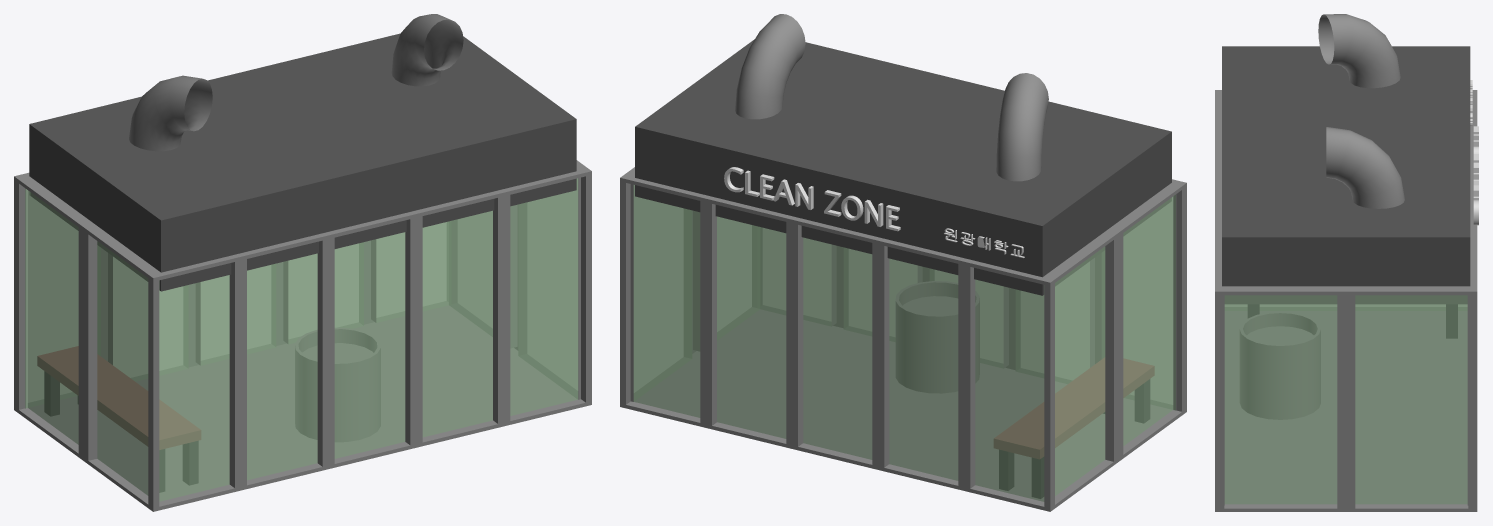
3 renders of one model, left to right at view 1: azimuth 30°, elevation 25°; view 2: azimuth 150°, elevation 25°; view 3: azimuth 270°, elevation 25°, orthographic. The views are drawn at different scales.
Parts seen in each view (by area): view 1: pCube3, pCube1, pCylinder1, pCube9, pTorus2, pTorus1; view 2: pCube3, pCube1, pCylinder1, pCube9, pTorus1, pTorus2, typeMesh2, typeMesh1; view 3: pCube3, pCube1, pCylinder1, pTorus1, pTorus2, typeMesh2, pCube9.
Boxes of the visible parts, x1=… form: pCube3: x1=14, y1=160, x2=591, y2=511; pCube1: x1=29, y1=33, x2=576, y2=291; pCylinder1: x1=295, y1=328, x2=380, y2=441; pCube9: x1=37, y1=346, x2=200, y2=492; pTorus2: x1=129, y1=75, x2=212, y2=151; pTorus1: x1=391, y1=14, x2=463, y2=86; pCube3: x1=620, y1=167, x2=1186, y2=511; pCube1: x1=635, y1=39, x2=1171, y2=295; pCylinder1: x1=896, y1=281, x2=979, y2=393; pCube9: x1=994, y1=357, x2=1154, y2=498; pTorus1: x1=735, y1=14, x2=805, y2=119; pTorus2: x1=996, y1=73, x2=1048, y2=181; typeMesh2: x1=724, y1=167, x2=900, y2=231; typeMesh1: x1=944, y1=228, x2=1024, y2=258; pCube3: x1=1215, y1=90, x2=1477, y2=511; pCube1: x1=1222, y1=46, x2=1470, y2=303; pCylinder1: x1=1240, y1=312, x2=1320, y2=419; pTorus1: x1=1326, y1=127, x2=1404, y2=208; pTorus2: x1=1318, y1=14, x2=1400, y2=88; typeMesh2: x1=1473, y1=126, x2=1478, y2=225; pCube9: x1=1248, y1=304, x2=1457, y2=338.
Size of the model in its own units: 1.66 by 1.31 by 0.9171.
